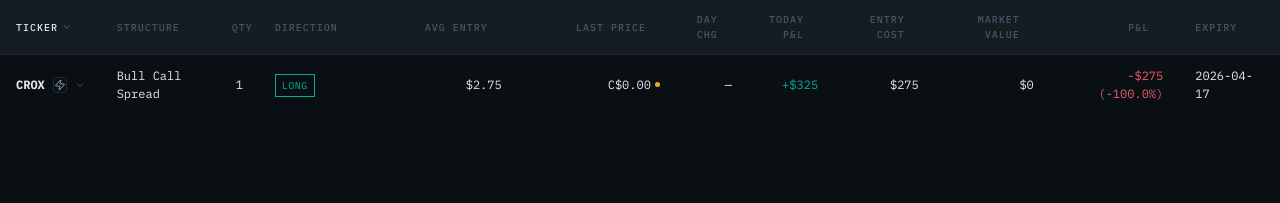
Test case: PositionTable stale indicator › flags an option row when any leg quote is stale and the expanded leg row
Expected: the picture named "stale quote" is shown, [655,82,660,87]
Click the button named "Expand legs for CROX" at (80, 85), box [71,76,89,94]
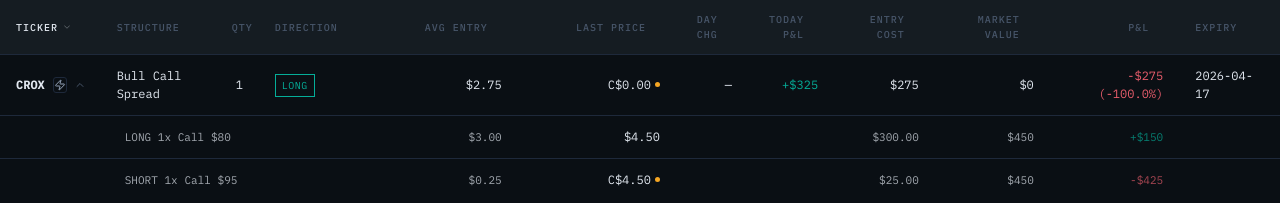
Expected: the picture named "stale quote" next to "C$4.50" is shown, [655,177,660,182]
